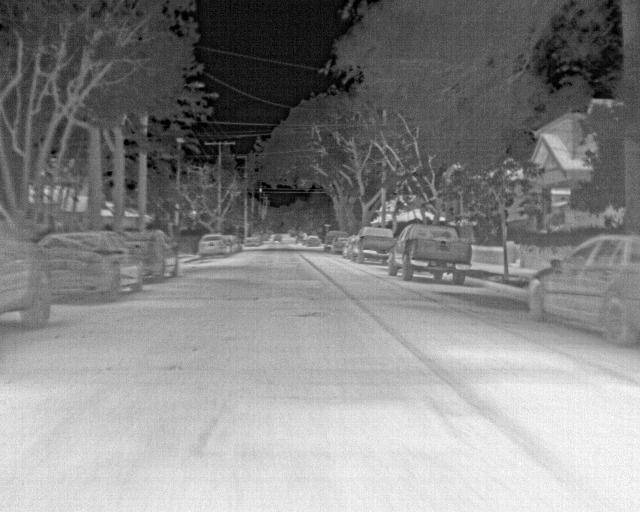car: (528, 233, 639, 348), (34, 229, 144, 303), (0, 202, 56, 329), (387, 221, 472, 281), (118, 226, 178, 280), (356, 225, 393, 264), (196, 233, 229, 261), (344, 236, 358, 258), (227, 234, 242, 254), (242, 235, 263, 249), (331, 235, 345, 254), (304, 235, 320, 248), (323, 235, 335, 251), (270, 234, 285, 246), (293, 235, 306, 246)
